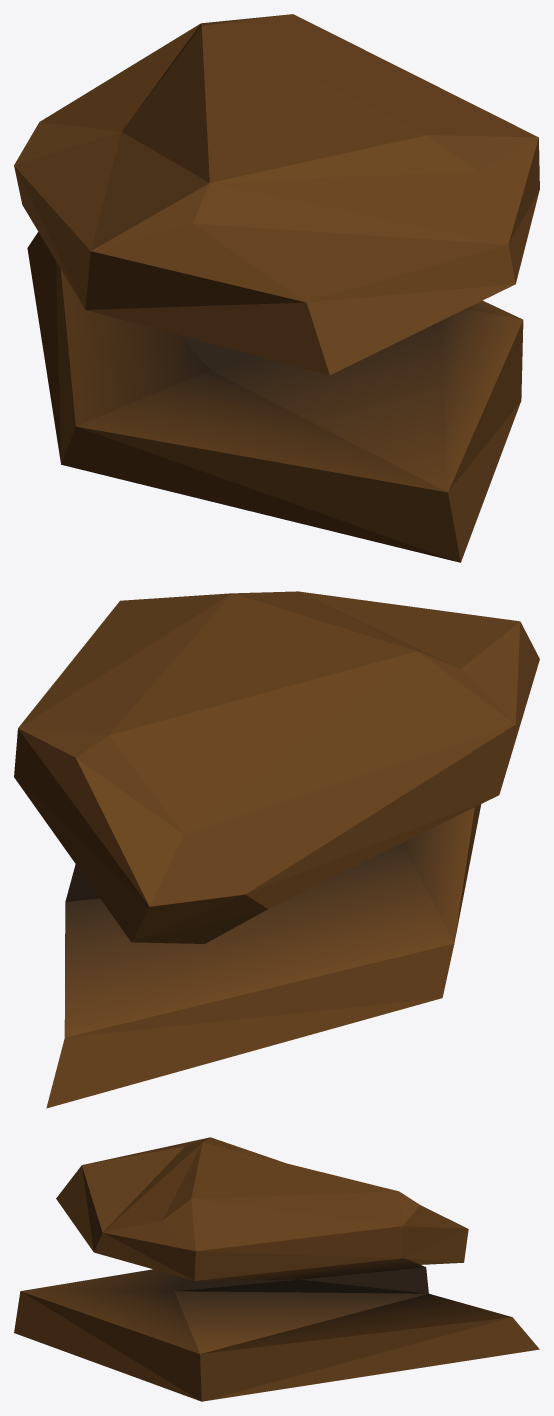
File: c_rock_desert_aa.fbx
3 renders of one model, top to bottom at view 1: azimuth 30°, elevation 25°; view 2: azimuth 150°, elevation 25°; view 3: azimuth 270°, elevation 25°, orthographic. The views are drawn at different scales.
Parts seen in each view (by area): view 1: c_rock_desert_aa; view 2: c_rock_desert_aa; view 3: c_rock_desert_aa.
Boxes of the visible parts, x1,y1,x2,y2 form: c_rock_desert_aa: (14,14,539,562); c_rock_desert_aa: (14,591,539,1108); c_rock_desert_aa: (14,1137,539,1401).
Bounding box in the file's own units: 1.39 × 1 × 2.5.
